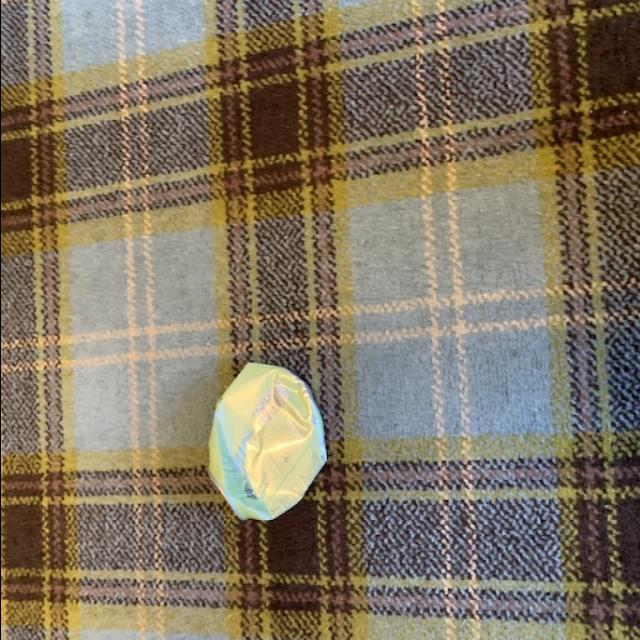litter: (195, 360, 328, 531)
